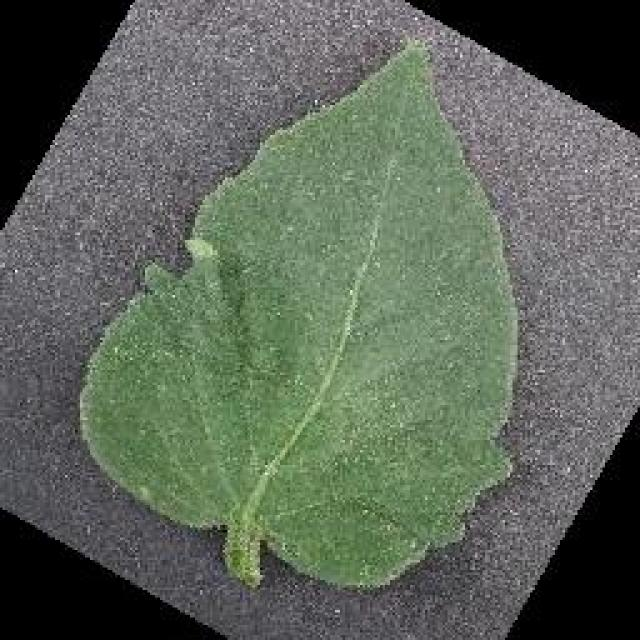Tomato___healthy: (81, 39, 521, 590)
